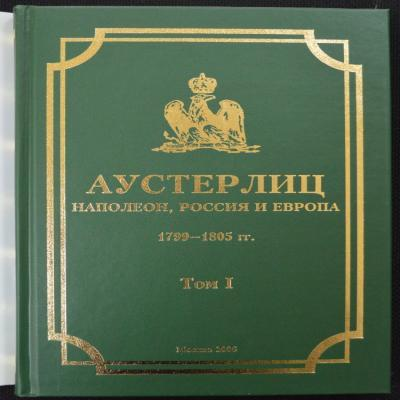printed_products: (10, 4, 394, 395)
